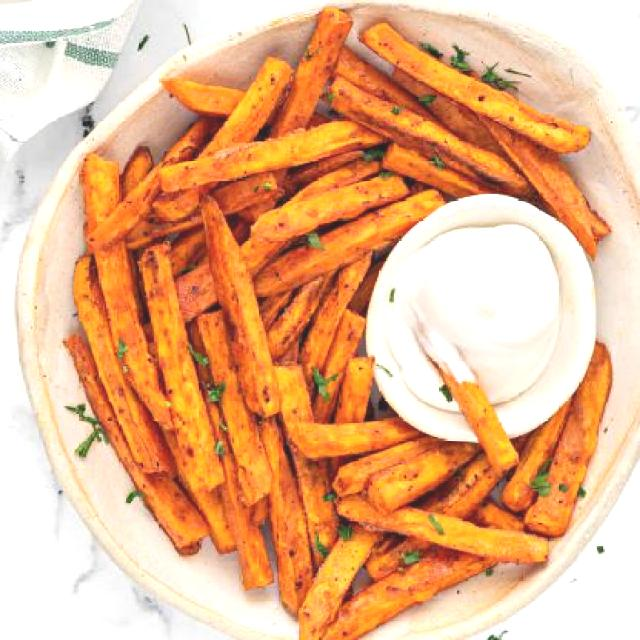fries: (67, 3, 616, 640)
